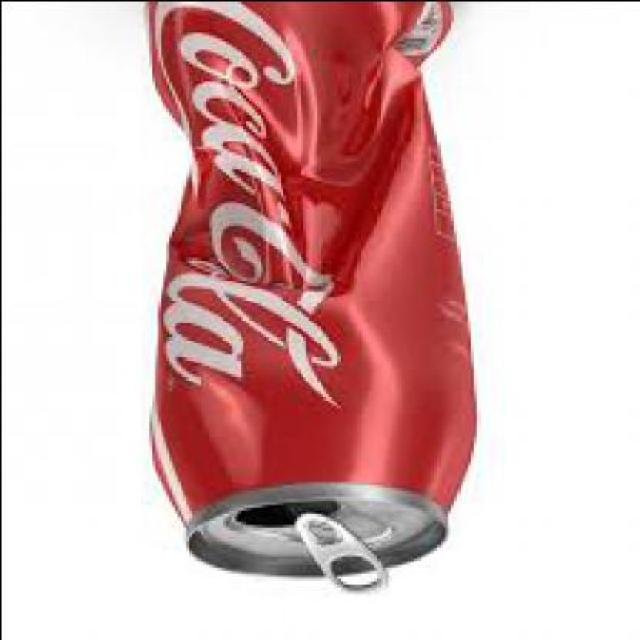METAL: (151, 3, 478, 594)
